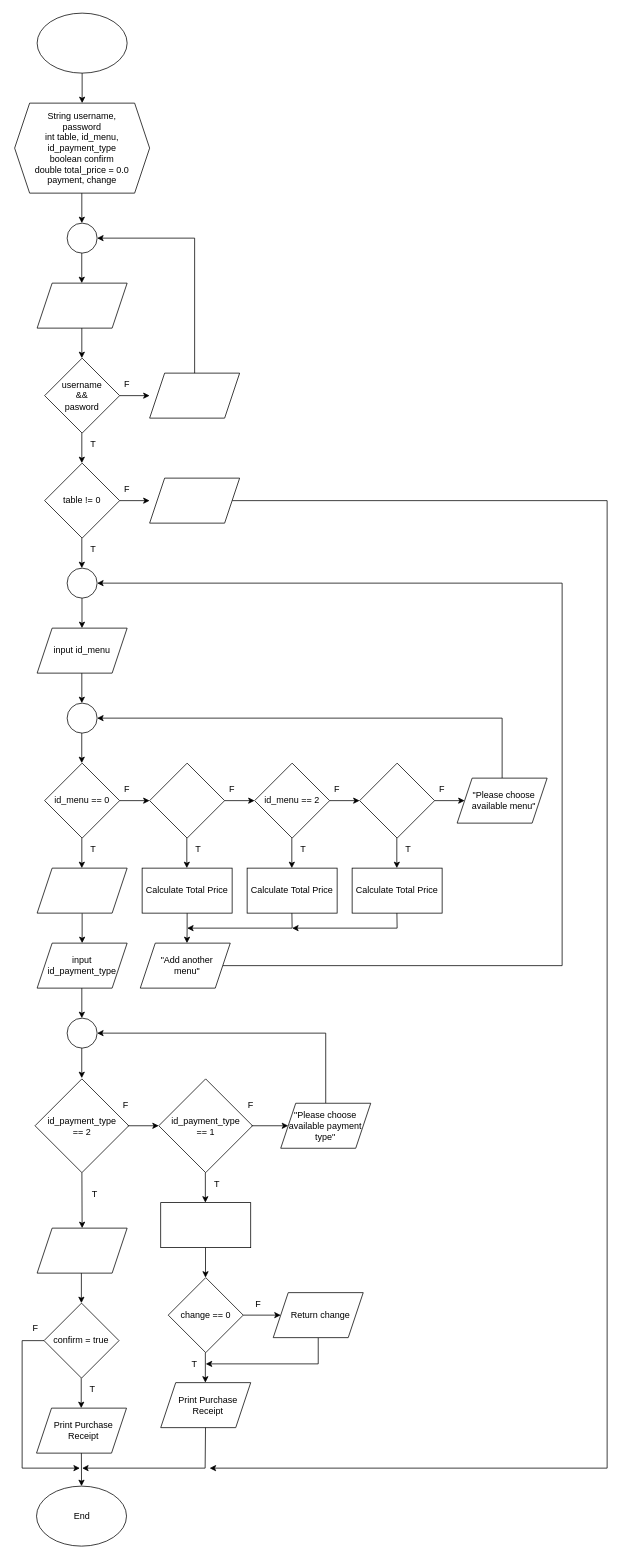
This 626x1559 diagram has some shape labels left out. The shapes that lost their labels are listed below. From the top down, each one's centre as x and y in pixels, then its label:
(81,42): Start
(81,305): Input username Input password
(194,395): "Wrong username or password"
(194,500): "There's no table available"
(187,800): id_menu == 1
(397,800): id_menu == 3
(81,890): "Checkout"
(205,1225): change = payment - total_price
(81,1250): input confirm
